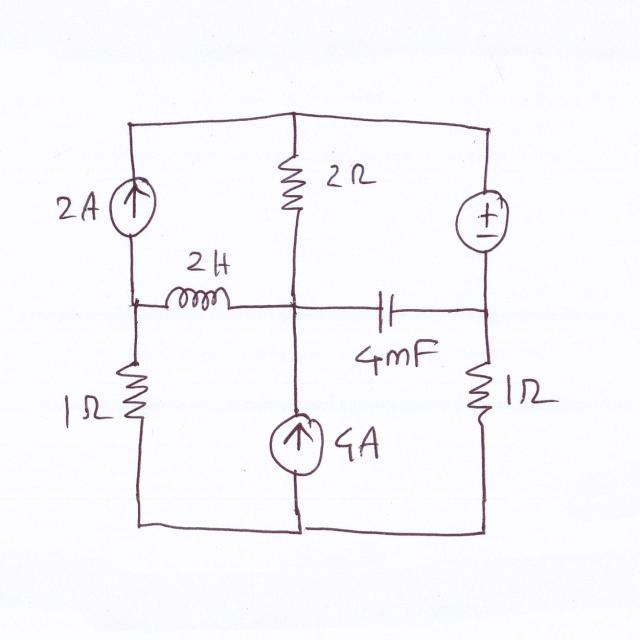capacitor: (370, 284, 406, 338)
current_source: (264, 400, 329, 482), (104, 168, 163, 240)
inductor: (160, 280, 240, 322)
resistor: (111, 346, 155, 433), (460, 344, 504, 427), (273, 144, 312, 222)
voltage_source: (450, 178, 516, 255)
